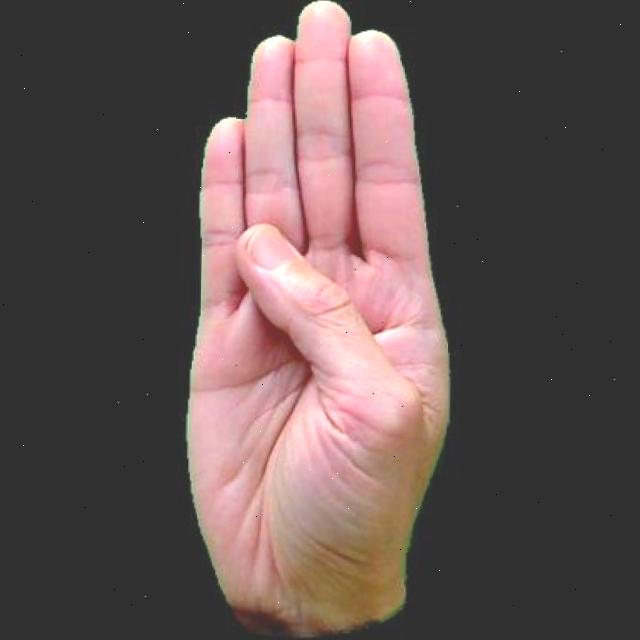b: (170, 0, 464, 639)
